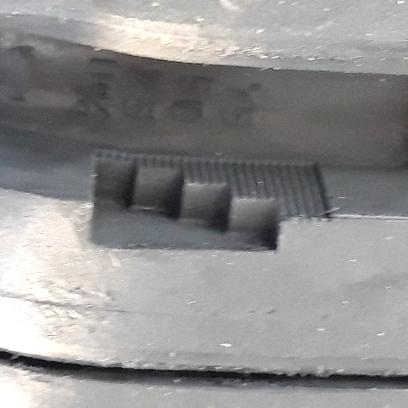temoin:100: (86, 147, 340, 257)
